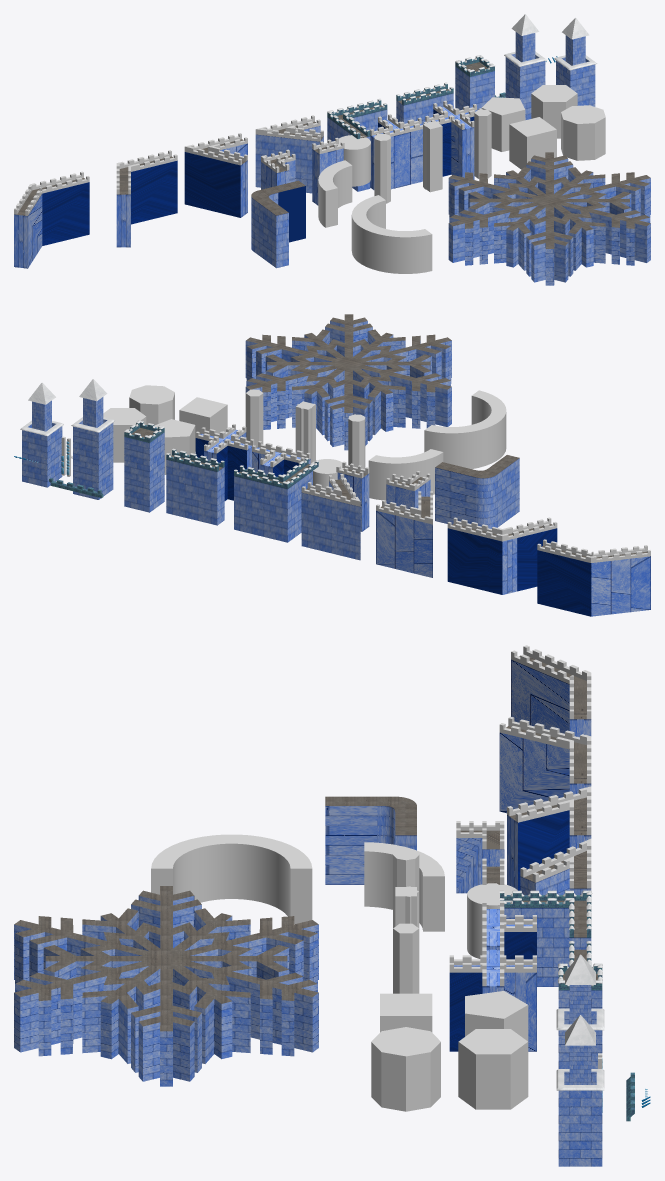
Rendered from iceCastleMonument.fbx.
The picture shows the model from 3 angles, top to bottom: view 1: azimuth 30°, elevation 25°; view 2: azimuth 150°, elevation 25°; view 3: azimuth 270°, elevation 25°; orthographic projection. The views are drawn at different scales.
Parts seen in each view (by area): view 1: SnowflakePart, Cube.009, Cube.163, Cube.012, Cube.154, Cube.158, Circle.003, Cube.166, Cube.153, Cube.008, Cube.152, Cube.010 (+24 smaller); view 2: SnowflakePart, Cube.163, Cube.158, Cube.012, Cube.009, Cube.089, Cube.153, Cube.154, Cube.005, Cube.006, Cube.001, Cube.151 (+24 smaller); view 3: SnowflakePart, Cube.009, Cube.012, Circle.003, Circle.001, Cube.158, Cube.163, Cube.010, Cube.154, Cube.152, Cube.151, Cube.089 (+18 smaller).
Boxes of the visible parts, <box> form: SnowflakePart: <box>448,152,650,285</box>; Cube.009: <box>351,195,432,273</box>; Cube.163: <box>14,178,89,268</box>; Cube.012: <box>251,180,305,268</box>; Cube.154: <box>184,139,247,217</box>; Cube.158: <box>116,156,177,247</box>; Circle.003: <box>561,105,605,160</box>; Cube.166: <box>370,120,422,189</box>; Cube.153: <box>255,121,323,193</box>; Cube.008: <box>509,117,556,169</box>; Cube.152: <box>427,106,476,179</box>; Cube.010: <box>318,160,352,227</box>; SnowflakePart: <box>245,314,451,450</box>; Cube.163: <box>537,545,650,616</box>; Cube.158: <box>447,524,557,594</box>; Cube.012: <box>435,455,519,528</box>; Cube.009: <box>424,390,506,468</box>; Cube.089: <box>234,464,312,542</box>; Cube.153: <box>301,479,360,560</box>; Cube.154: <box>376,496,432,577</box>; Cube.005: <box>166,455,224,525</box>; Cube.006: <box>124,427,164,512</box>; Cube.001: <box>73,419,113,499</box>; Cube.151: <box>22,423,62,487</box>; SnowflakePart: <box>14,886,318,1086</box>; Cube.009: <box>151,834,312,923</box>; Cube.012: <box>325,796,416,884</box>; Circle.003: <box>371,1027,440,1111</box>; Circle.001: <box>458,1029,528,1109</box>; Cube.158: <box>499,726,591,813</box>; Cube.163: <box>511,656,591,737</box>; Cube.010: <box>364,842,444,931</box>; Cube.154: <box>507,797,591,890</box>; Cube.152: <box>449,949,536,1051</box>; Cube.151: <box>558,1071,602,1166</box>; Cube.089: <box>504,900,591,986</box>.
Bounding box in the file's own units: 14611 × 4200 × 23637.
7 materials, 7 textured.
